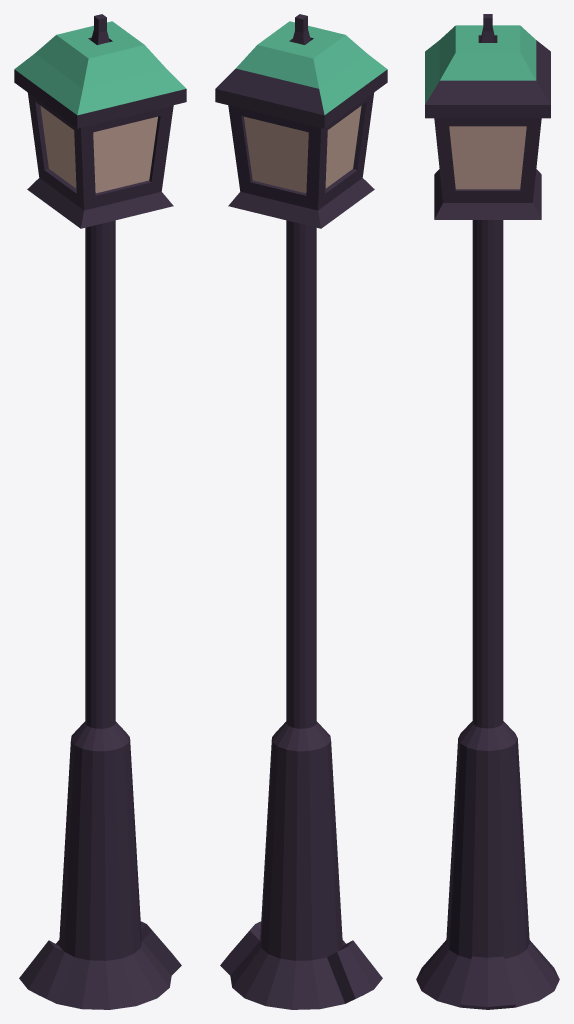
The model's file is light bulb .fbx.
The picture shows the model from 3 angles, left to right: view 1: azimuth 30°, elevation 25°; view 2: azimuth 150°, elevation 25°; view 3: azimuth 270°, elevation 25°; orthographic projection.
Visible parts, largest first — view 1: FirTree.165; view 2: FirTree.165; view 3: FirTree.165.
Part boxes in pixels (box(x1,y1,x2,y2)): FirTree.165: box(14, 14, 186, 1009); FirTree.165: box(215, 14, 387, 1009); FirTree.165: box(416, 14, 559, 1009).
Size of the model in its own units: 80.66 by 512 by 69.28.
